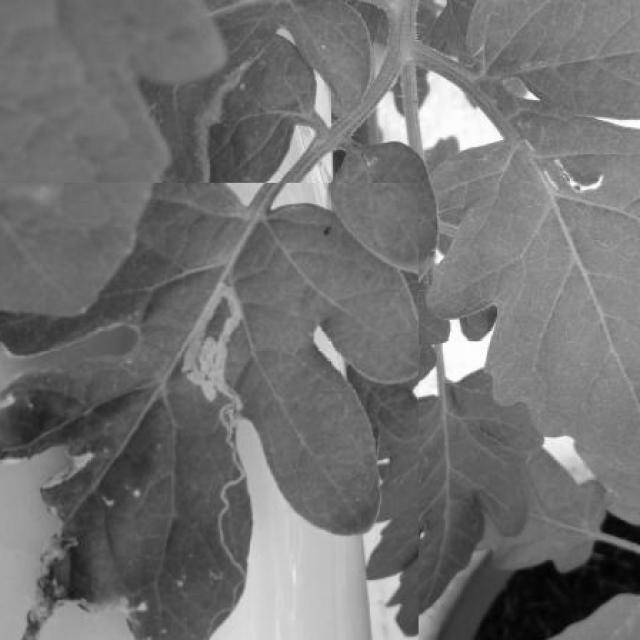Leaf Miner: (0, 183, 419, 640)
